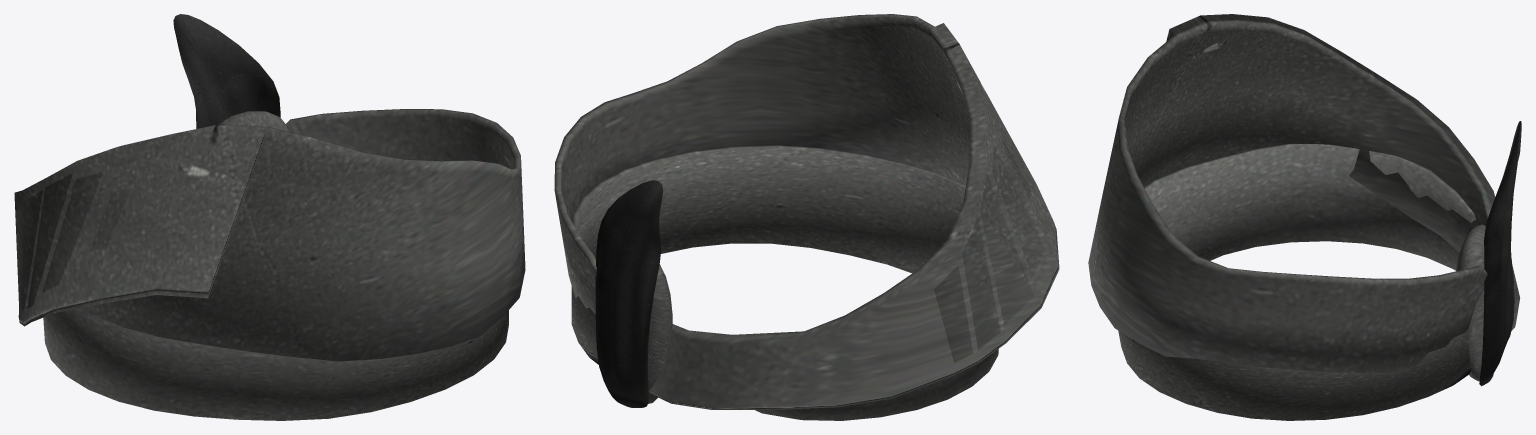
The model's file is Tanjak.fbx.
3 views of the same model, side by side, from view 1: azimuth 30°, elevation 25°; view 2: azimuth 150°, elevation 25°; view 3: azimuth 270°, elevation 25° (orthographic). The views are drawn at different scales.
Parts seen in each view (by area): view 1: polySurface1; view 2: polySurface1; view 3: polySurface1.
Part boxes in pixels (x1=…): polySurface1: x1=14, y1=14, x2=525, y2=420; polySurface1: x1=554, y1=14, x2=1059, y2=420; polySurface1: x1=1088, y1=14, x2=1521, y2=420.
Size of the model in its own units: 35.94 by 22.11 by 31.
1 material, 1 textured.
